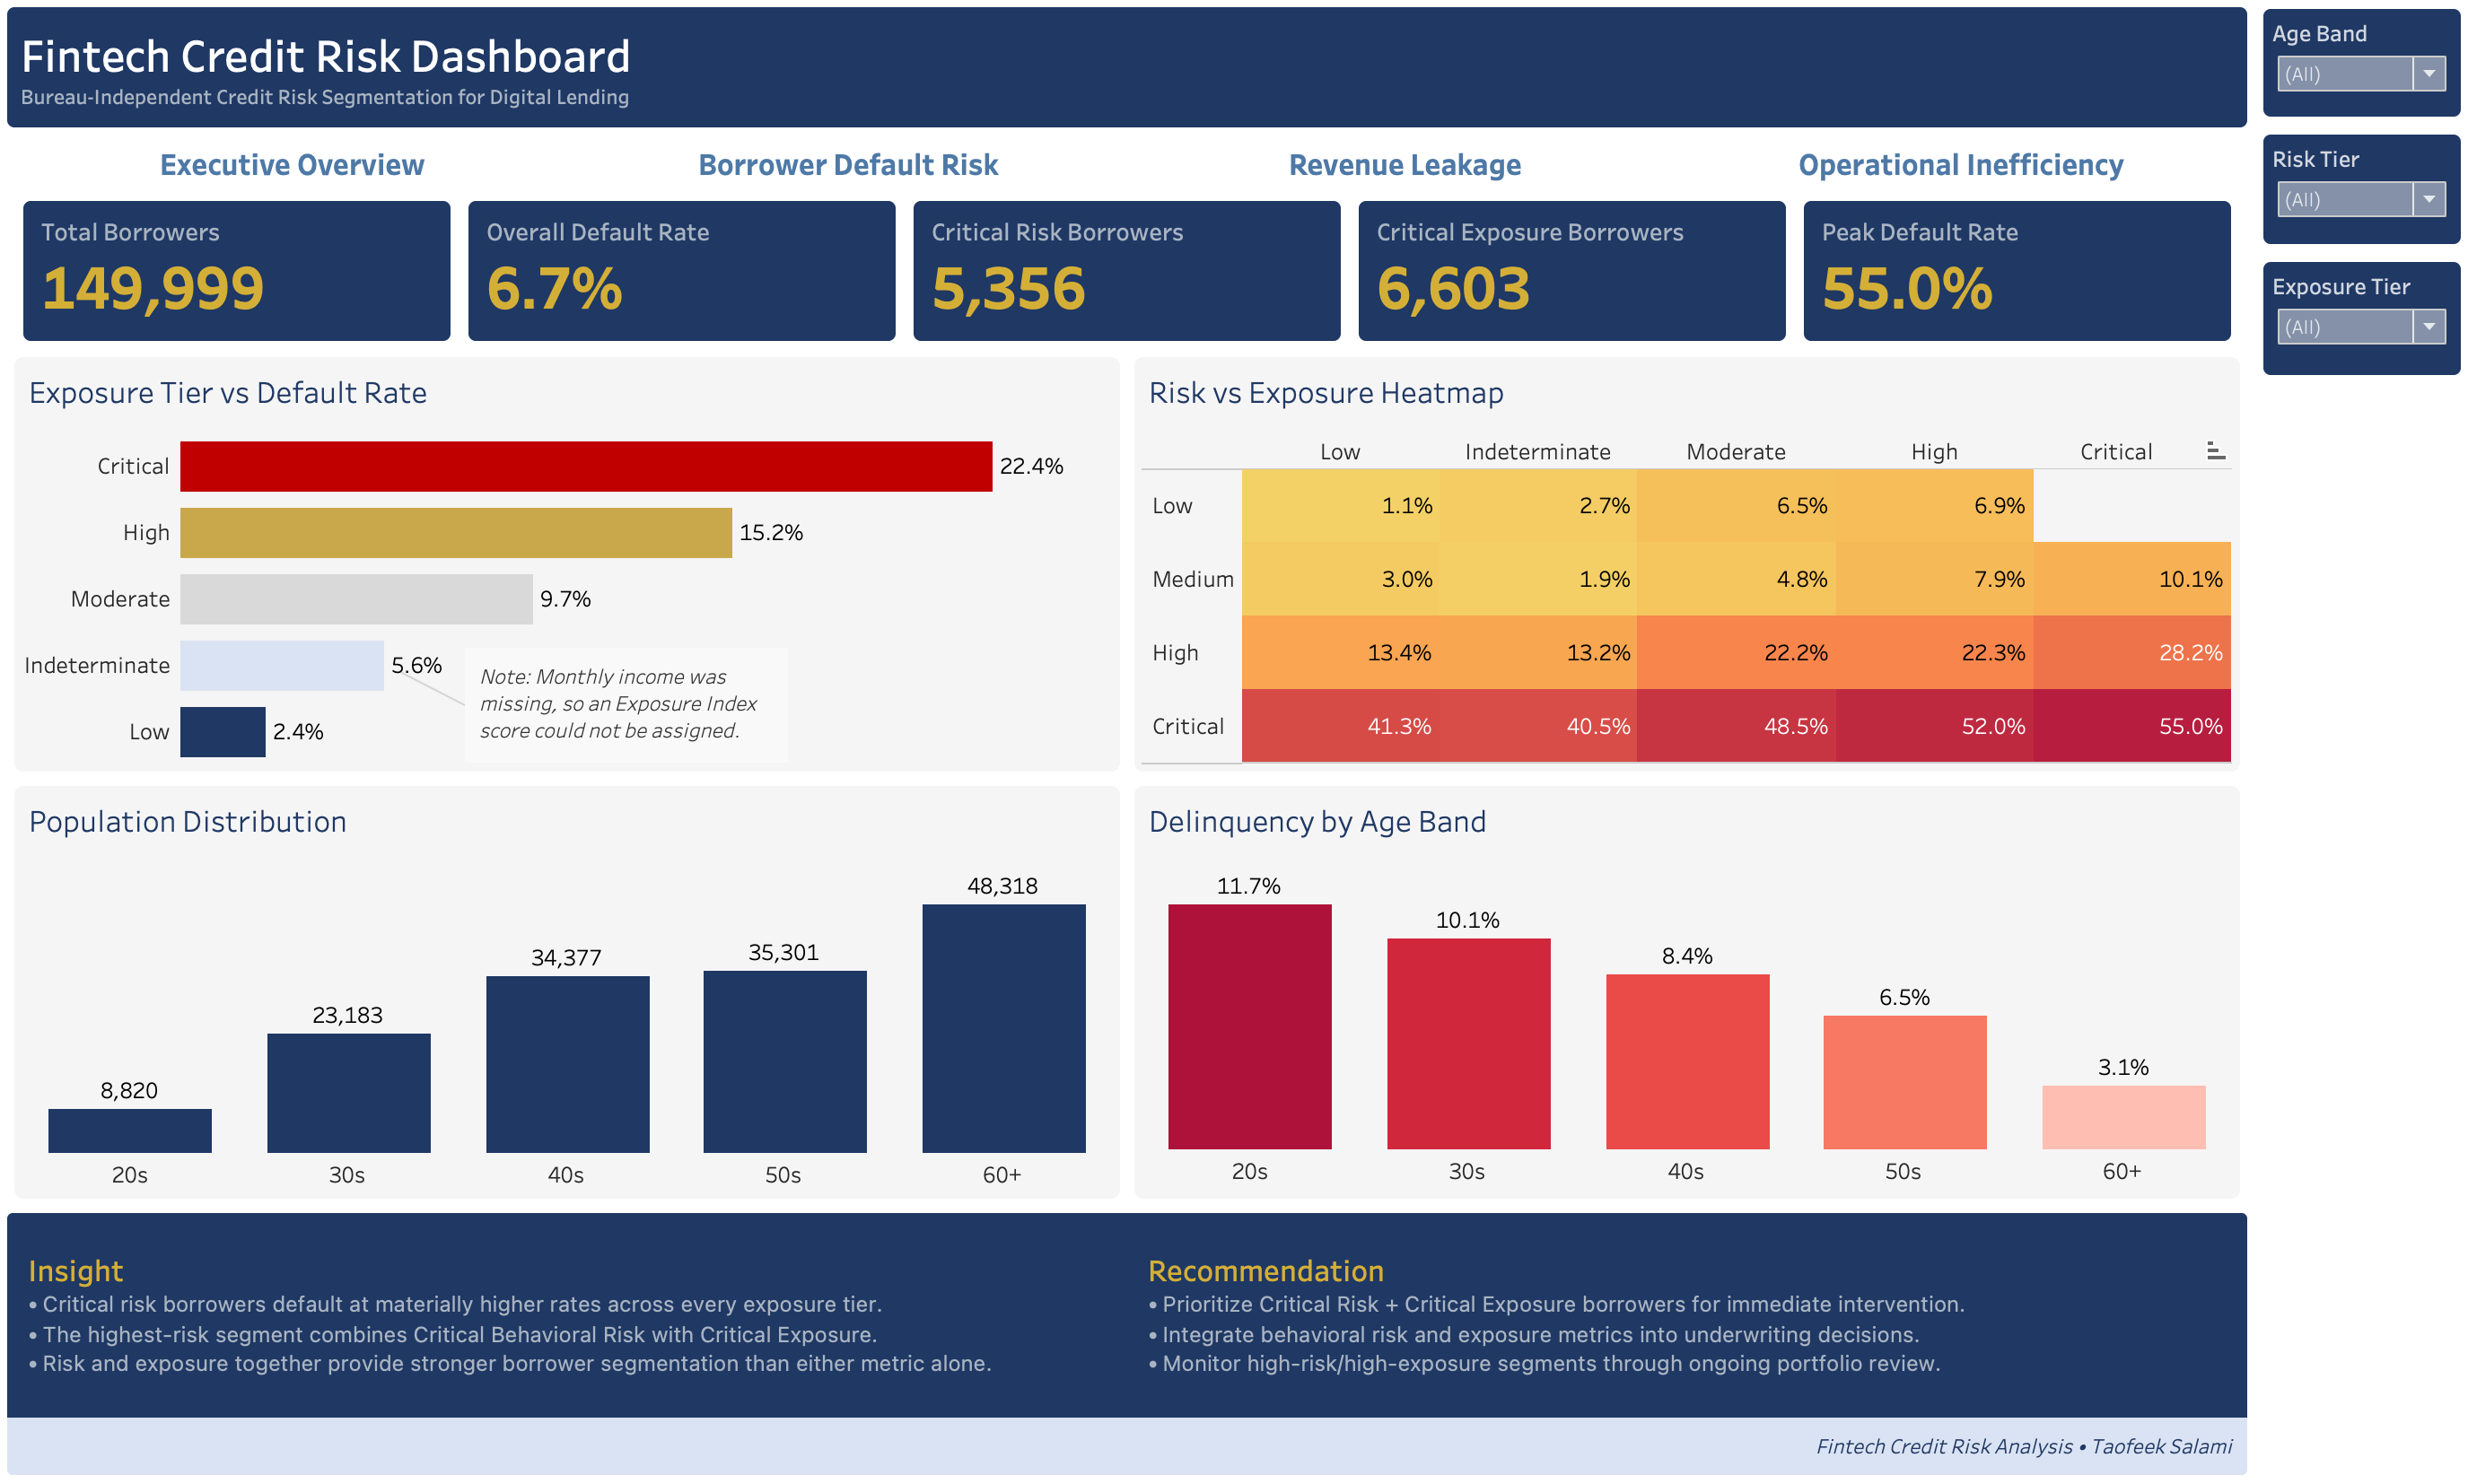

The page's visual inventory and layout, read from the dashboard file:
{"tool":"tableau","page":{"name":"DB01 - Executive Overview","canvas":[1600,900],"ordinal":0},"visuals":[{"type":"filter","title":"19 - Chart - Risk × Exposure Heatmap","param":"[federated.0l6wklt0usoimd1as64wt0mplcod].[none:risk_tier:nk]","box":[1455,12,133,71]},{"type":"text","box":[16,16,1435,67]},{"type":"filter","title":"19 - Chart - Risk × Exposure Heatmap","param":"[federated.0l6wklt0usoimd1as64wt0mplcod].[none:exposure_tier:nk]","box":[1455,83,133,73]},{"type":"dashboard-object","box":[20,87,357,32]},{"type":"dashboard-object","box":[377,87,357,32]},{"type":"dashboard-object","box":[734,87,357,32]},{"type":"dashboard-object","box":[1091,87,356,32]},{"type":"worksheet","title":"01 - KPI - Population","mark":"Automatic","box":[20,119,286,88]},{"type":"worksheet","title":"02 - KPI - Overall Default Rate","mark":"Automatic","box":[306,119,286,88]},{"type":"worksheet","title":"03 - KPI - Critical Risk Borrowers","mark":"Automatic","box":[592,119,285,88]},{"type":"worksheet","title":"04 - KPI - Critical Exposure Borrowers","mark":"Automatic","box":[877,119,285,88]},{"type":"worksheet","title":"05 - KPI - Highest Combined Default Rate","mark":"Automatic","box":[1162,119,285,88]},{"type":"filter","title":"20 - Chart - Population Distribution","param":"[federated.0l6wklt0usoimd1as64wt0mplcod].[none:age_band:nk]","box":[1455,156,133,73]},{"type":"worksheet","title":"18 - Chart - Exposure Tier vs Default Rate","mark":"Automatic","rows":["exposure_tier"],"cols":["SeriousDlqin2yrs"],"box":[16,207,718,264]},{"type":"worksheet","title":"19 - Chart - Risk × Exposure Heatmap","mark":"Square","rows":["risk_tier"],"cols":["exposure_tier"],"box":[734,207,717,264]},{"type":"worksheet","title":"17 - Chart - Default Rate by Risk Tier","mark":"Automatic","rows":["risk_tier"],"cols":["SeriousDlqin2yrs"],"box":[16,471,718,263]},{"type":"worksheet","title":"20 - Chart - Population Distribution","mark":"Automatic","rows":["vtsum"],"cols":["age_band"],"box":[734,471,717,263]},{"type":"text","box":[16,738,718,114]},{"type":"text","box":[734,738,717,114]},{"type":"text","box":[16,852,1435,32]}]}

Visuals, with their boxes on the page's 1600x900 design canvas (x1, y1, x2, y2). These are canvas units, not pixel positions in the 2468x1484 screenshot, which may show the page scaled, cropped or inside an application window:
"19 - Chart - Risk × Exposure Heatmap" filter: l=1455, t=12, r=1588, b=83
text: l=16, t=16, r=1451, b=83
"19 - Chart - Risk × Exposure Heatmap" filter: l=1455, t=83, r=1588, b=156
dashboard-object: l=20, t=87, r=377, b=119
dashboard-object: l=377, t=87, r=734, b=119
dashboard-object: l=734, t=87, r=1091, b=119
dashboard-object: l=1091, t=87, r=1447, b=119
"01 - KPI - Population" worksheet: l=20, t=119, r=306, b=207
"02 - KPI - Overall Default Rate" worksheet: l=306, t=119, r=592, b=207
"03 - KPI - Critical Risk Borrowers" worksheet: l=592, t=119, r=877, b=207
"04 - KPI - Critical Exposure Borrowers" worksheet: l=877, t=119, r=1162, b=207
"05 - KPI - Highest Combined Default Rate" worksheet: l=1162, t=119, r=1447, b=207
"20 - Chart - Population Distribution" filter: l=1455, t=156, r=1588, b=229
"18 - Chart - Exposure Tier vs Default Rate" worksheet: l=16, t=207, r=734, b=471
"19 - Chart - Risk × Exposure Heatmap" worksheet (Square marks): l=734, t=207, r=1451, b=471
"17 - Chart - Default Rate by Risk Tier" worksheet: l=16, t=471, r=734, b=734
"20 - Chart - Population Distribution" worksheet: l=734, t=471, r=1451, b=734
text: l=16, t=738, r=734, b=852
text: l=734, t=738, r=1451, b=852
text: l=16, t=852, r=1451, b=884
